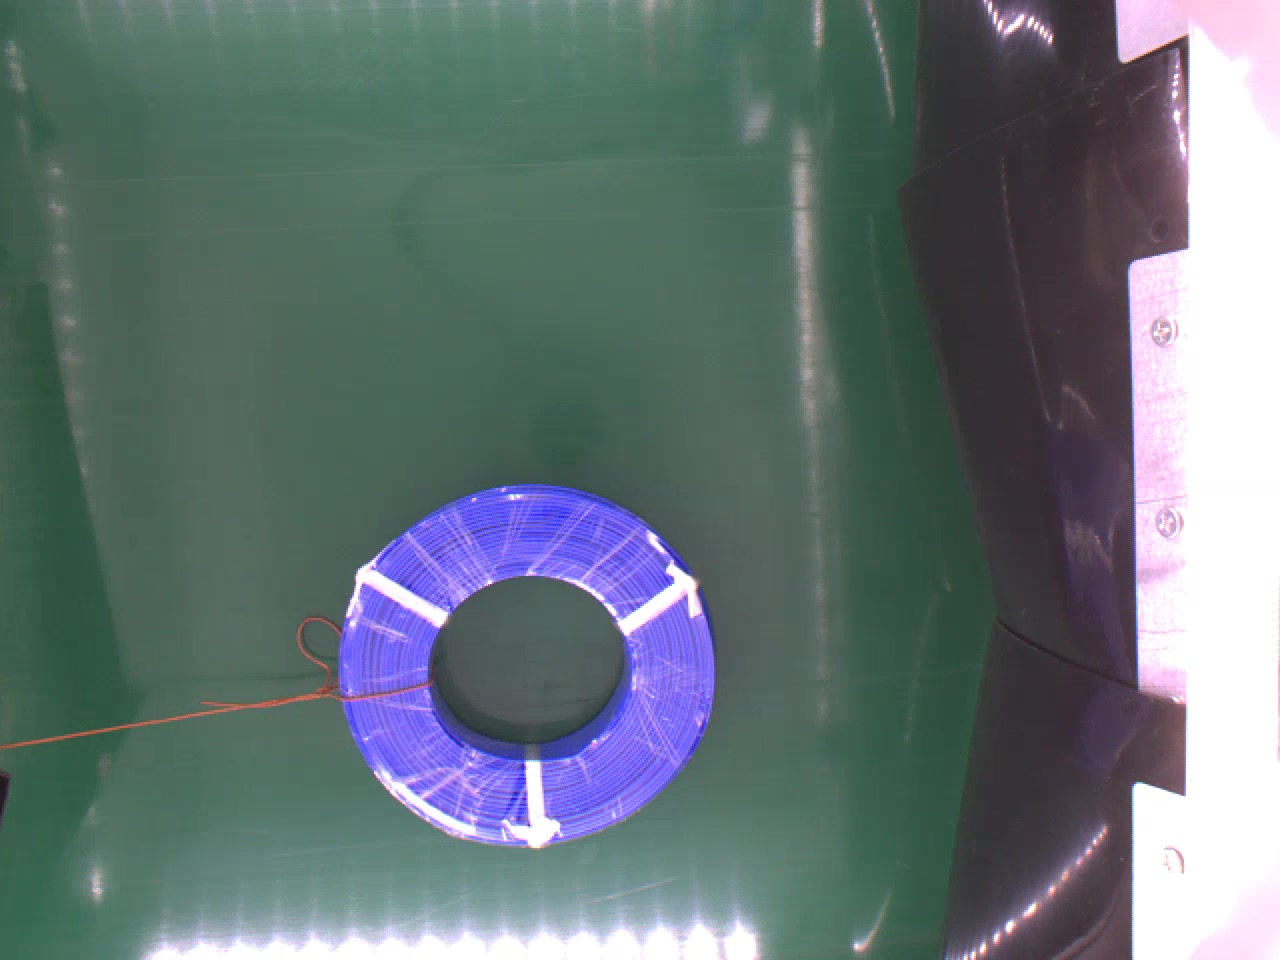blue: (337, 473, 716, 847)
